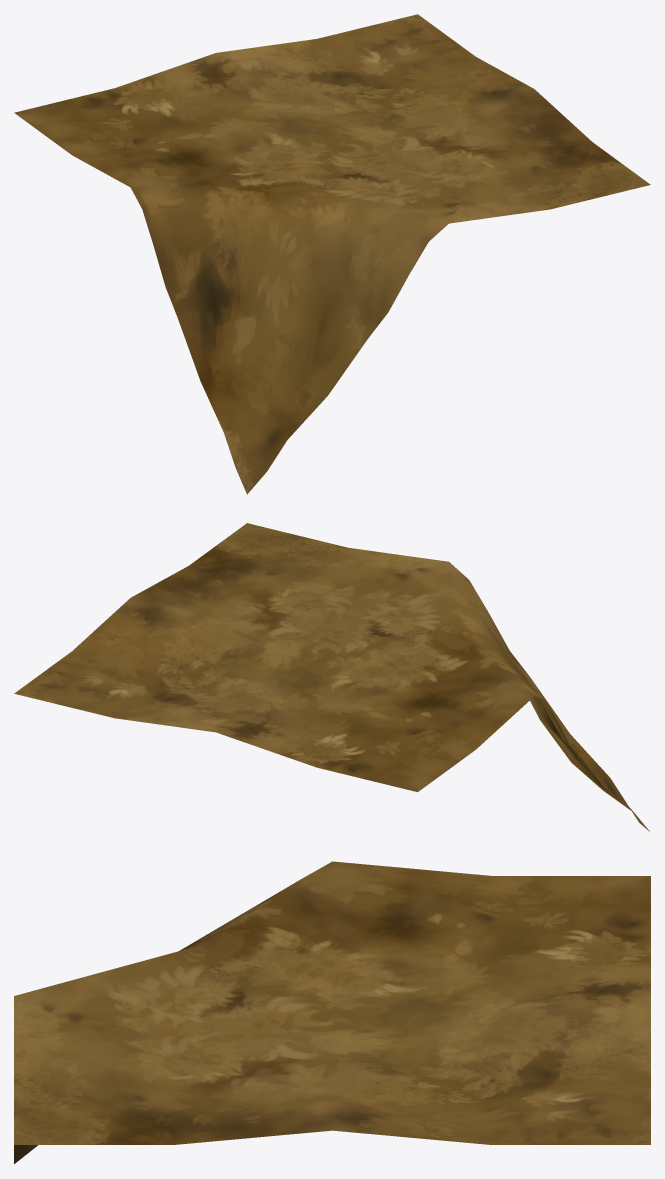
File: Levelled_Slope_Incline_005.fbx
The picture shows the model from 3 angles, top to bottom: view 1: azimuth 30°, elevation 25°; view 2: azimuth 150°, elevation 25°; view 3: azimuth 270°, elevation 25°; orthographic projection. The views are drawn at different scales.
Visible parts, largest first — view 1: Levelled_Slope_incline_005; view 2: Levelled_Slope_incline_005; view 3: Levelled_Slope_incline_005.
Part boxes in pixels (x1,y1,x2,y2): Levelled_Slope_incline_005: [14, 14, 650, 494]; Levelled_Slope_incline_005: [14, 523, 649, 831]; Levelled_Slope_incline_005: [14, 861, 650, 1163].
Bounding box in the file's own units: 10 × 5.25 × 10.
Materials: 1 (1 with a texture image).
